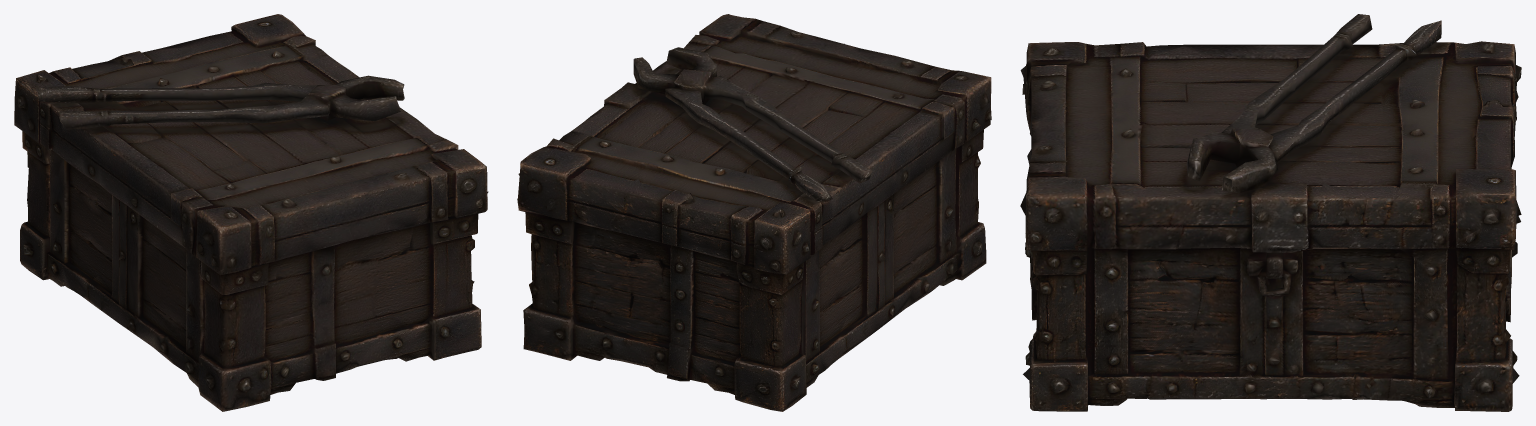
Rendered from raw_chest.glb.
3 renders of one model, left to right at view 1: azimuth 30°, elevation 25°; view 2: azimuth 150°, elevation 25°; view 3: azimuth 270°, elevation 25°, orthographic. The views are drawn at different scales.
Parts seen in each view (by area): view 1: tripo_node_de83c9e4-b979-4a57-9022-194d06388f8e; view 2: tripo_node_de83c9e4-b979-4a57-9022-194d06388f8e; view 3: tripo_node_de83c9e4-b979-4a57-9022-194d06388f8e.
Part boxes in pixels (x1,y1,x2,y2): tripo_node_de83c9e4-b979-4a57-9022-194d06388f8e: [14, 14, 488, 411]; tripo_node_de83c9e4-b979-4a57-9022-194d06388f8e: [517, 14, 991, 411]; tripo_node_de83c9e4-b979-4a57-9022-194d06388f8e: [1020, 14, 1521, 411].
Bounding box in the file's own units: 0.8008 × 0.542 × 1.
Materials: 1 (1 with a texture image).
